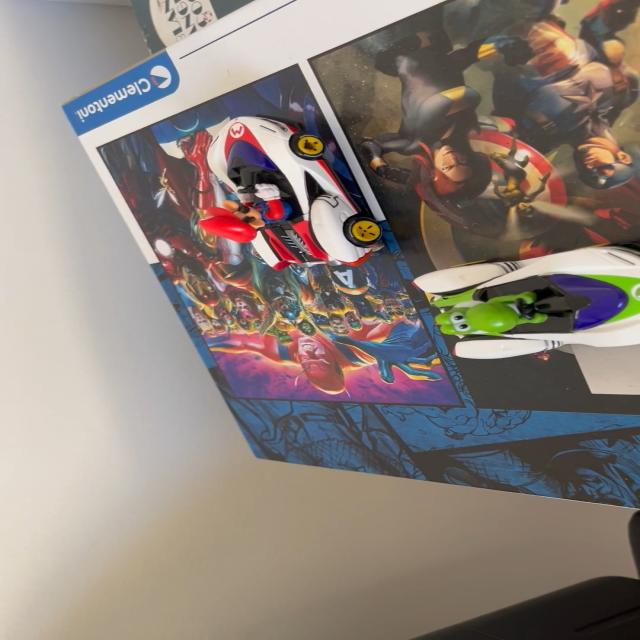mario: (188, 110, 399, 271)
yoshi: (392, 236, 636, 371)
